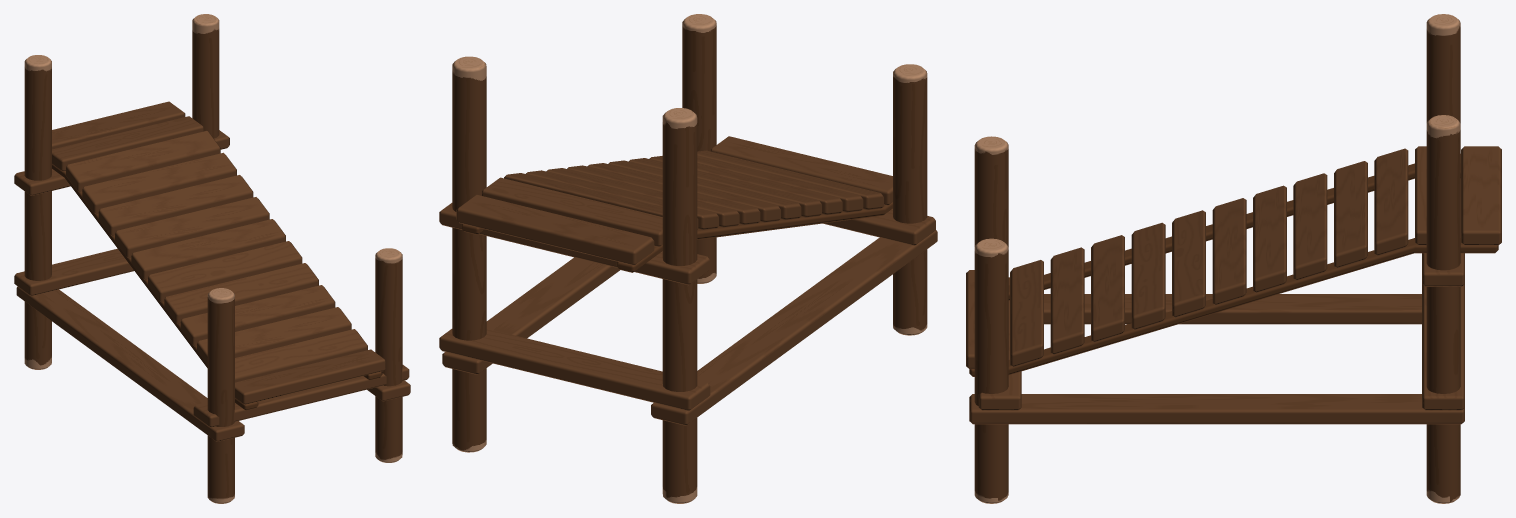
File: M_Small_Ramp.fbx
The picture shows the model from 3 angles, left to right: view 1: azimuth 30°, elevation 25°; view 2: azimuth 150°, elevation 25°; view 3: azimuth 270°, elevation 25°; orthographic projection. The views are drawn at different scales.
Parts seen in each view (by area): view 1: M_Small_Ramp; view 2: M_Small_Ramp; view 3: M_Small_Ramp.
Part boxes in pixels (left/top/right/bottom): M_Small_Ramp: left=14, top=14, right=410, bottom=503; M_Small_Ramp: left=439, top=14, right=937, bottom=503; M_Small_Ramp: left=966, top=14, right=1501, bottom=503.
Bounding box in the file's own units: 420 × 611 × 786.
